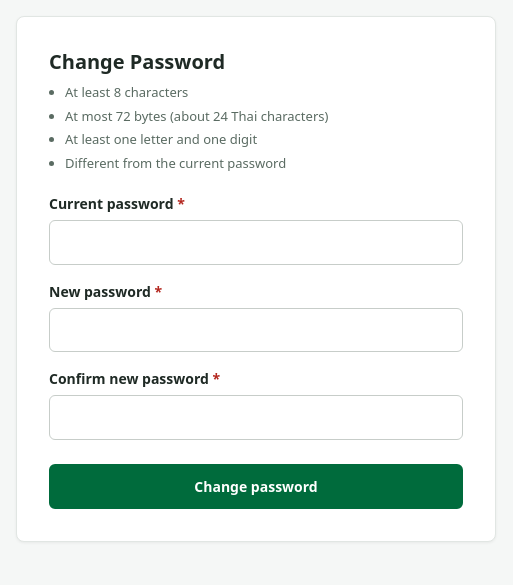
Test: Accessibility › Change Password page › UI-26: confirmation-mismatch error is announced via role=alert
Type "OldPass1" into the password field labelled "Current password *".
click(256, 242); type("OldPass1")  # box [49, 220, 463, 264]
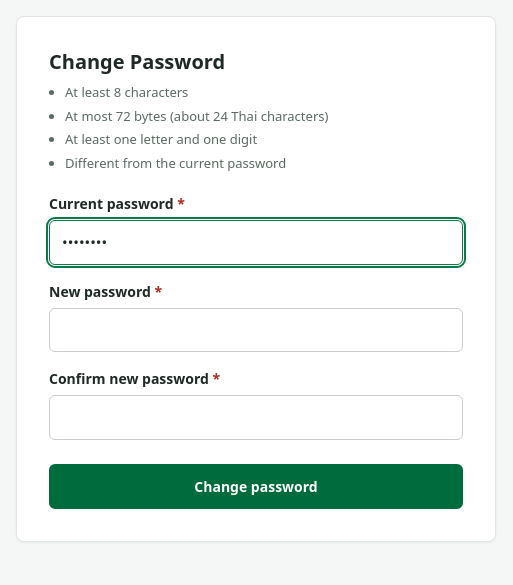
Type "NewPass1!" into the password field labelled "New password *".
click(256, 330); type("NewPass1!")  # box [49, 308, 463, 352]
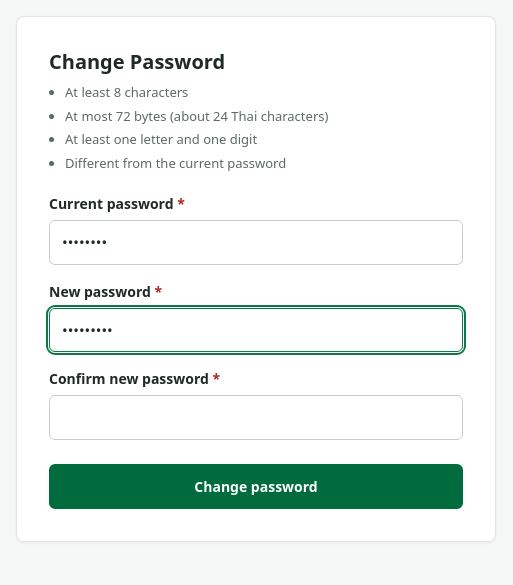
Type "Different1!" into the password field labelled "Confirm new password *".
click(256, 417); type("Different1!")  # box [49, 395, 463, 440]
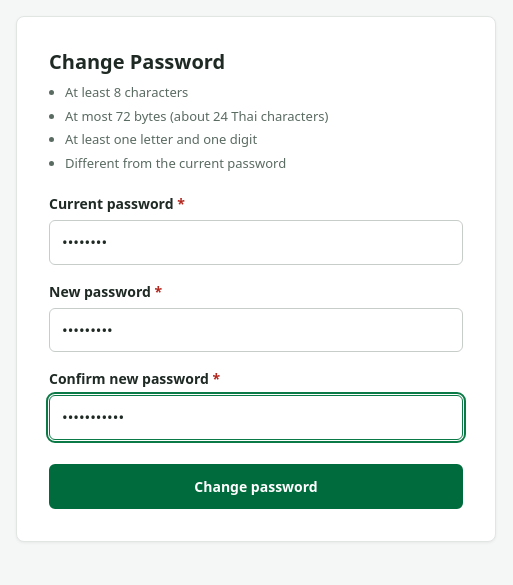
Click the button "Change password".
click(256, 486)  # box [49, 464, 463, 508]
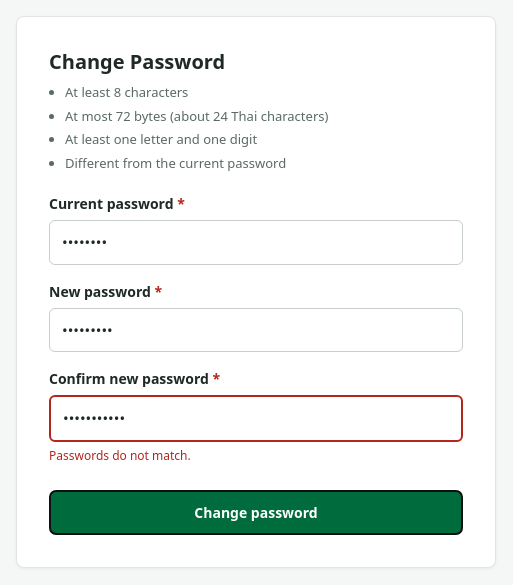
Check: the text "Passwords do not match." is shown, box [49, 446, 191, 464]
